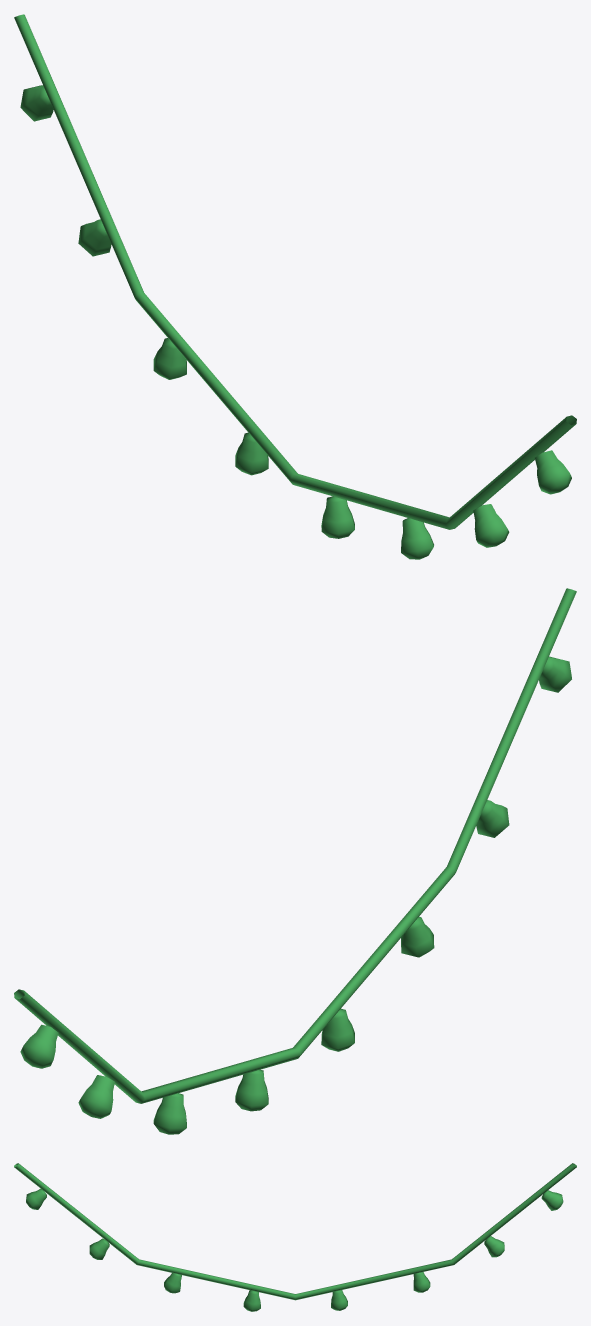
File: Wreath for Aisle.fbx
The picture shows the model from 3 angles, top to bottom: view 1: azimuth 30°, elevation 25°; view 2: azimuth 150°, elevation 25°; view 3: azimuth 270°, elevation 25°; orthographic projection. The views are drawn at different scales.
Visible parts, largest first — view 1: polySurface171; view 2: polySurface171; view 3: polySurface171.
Part boxes in pixels (<box>): polySurface171: <box>14,14,576,559</box>; polySurface171: <box>14,588,576,1134</box>; polySurface171: <box>14,1163,576,1311</box>.
Size of the model in its own units: 0.2714 by 2.27 by 7.87.
